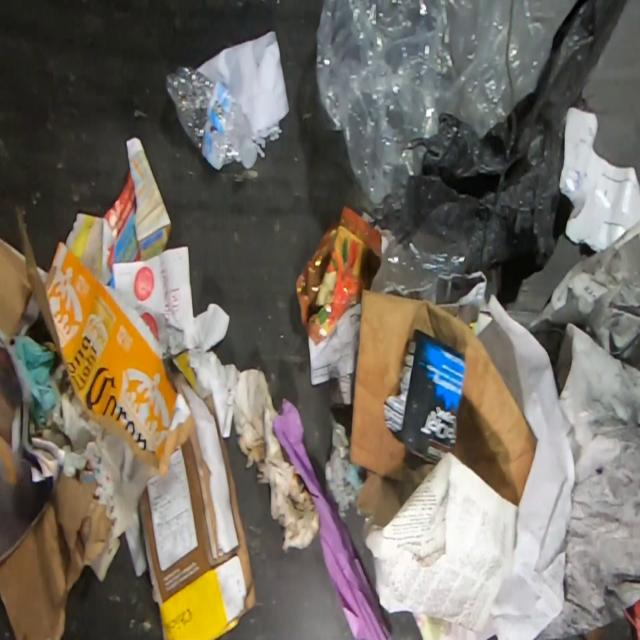cardboard: (0, 239, 117, 638), (349, 289, 537, 508), (42, 238, 198, 482), (138, 349, 258, 639)
rigid_plastic: (166, 65, 256, 172)
soft_plastic: (389, 1, 624, 303), (316, 0, 582, 205), (362, 218, 475, 301)
